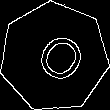O_SW: (22, 24, 86, 90)
